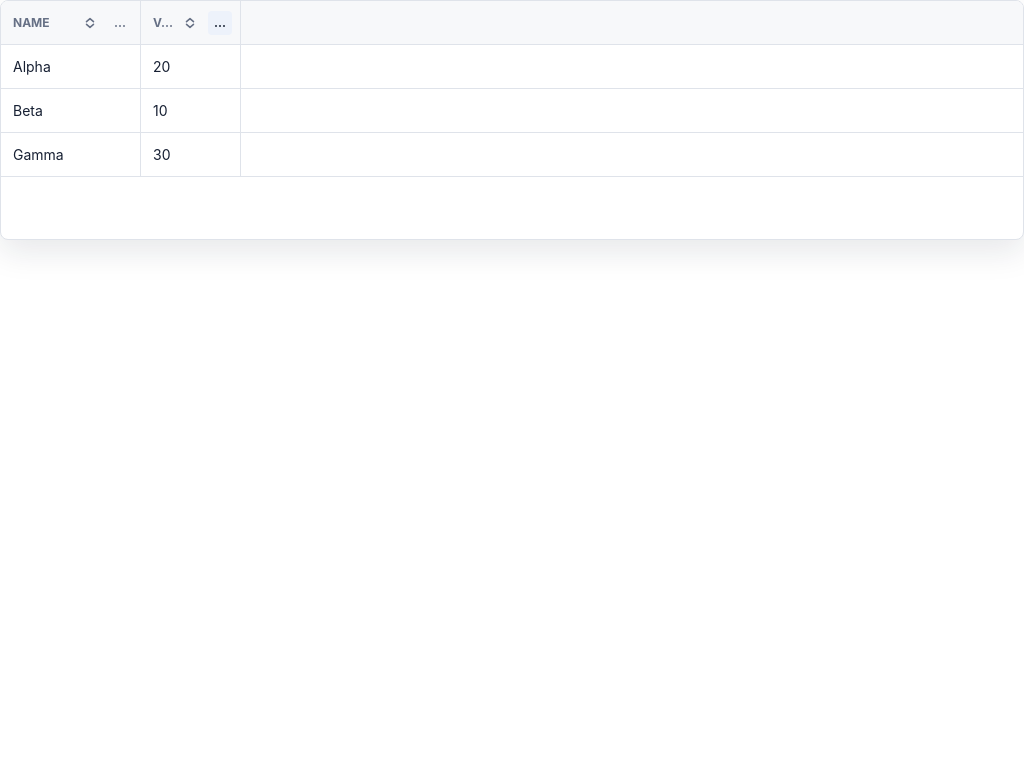
Test: VirtualTable › opens the column menu from the keyboard and restores focus on Escape
Click the button named "open column actions for value" at (220, 22), box [208, 10, 232, 34]
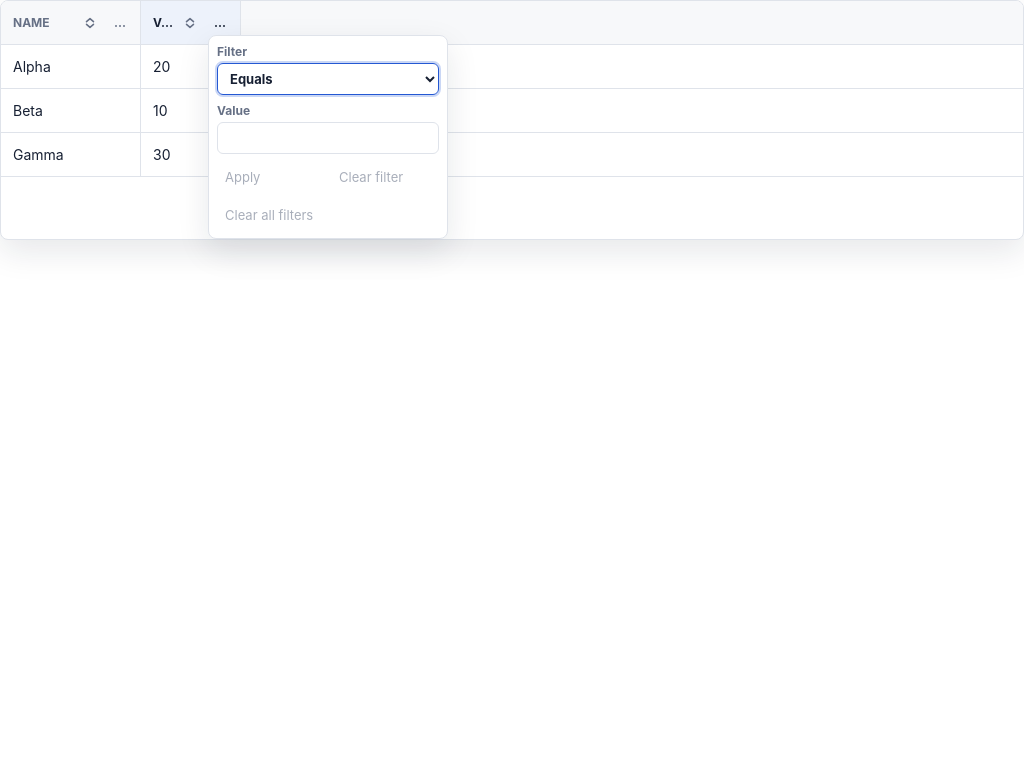
Check: the dialog named "column actions for value" is shown, box [208, 34, 448, 238]
Press Escape
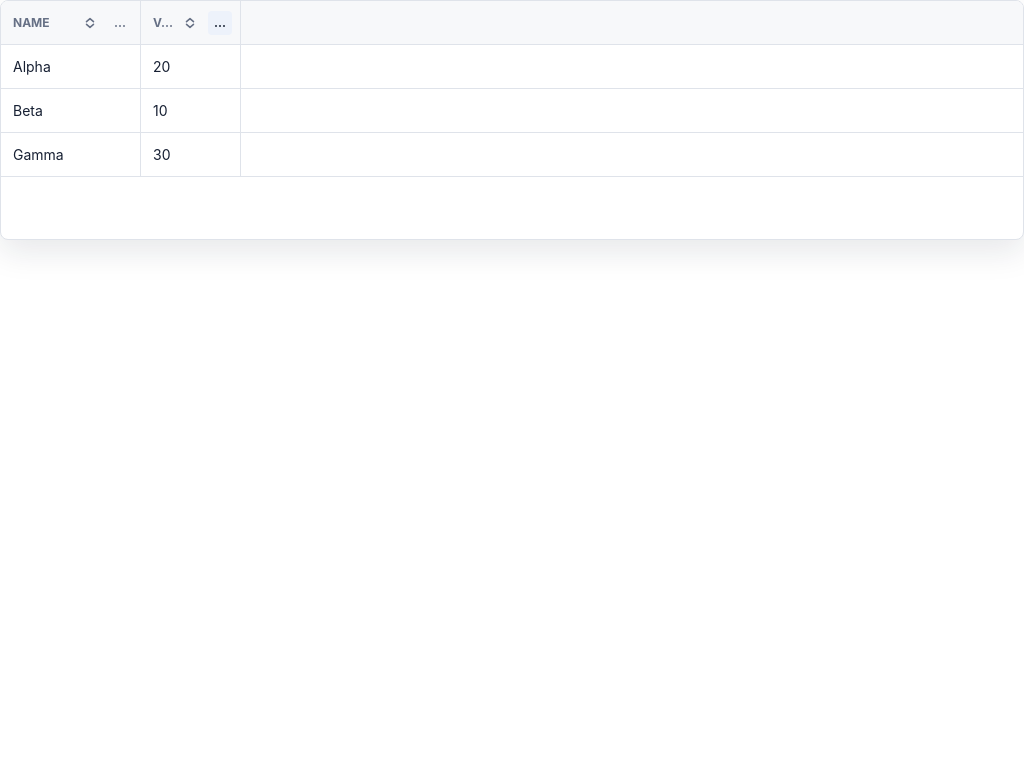
Check: the dialog is gone
